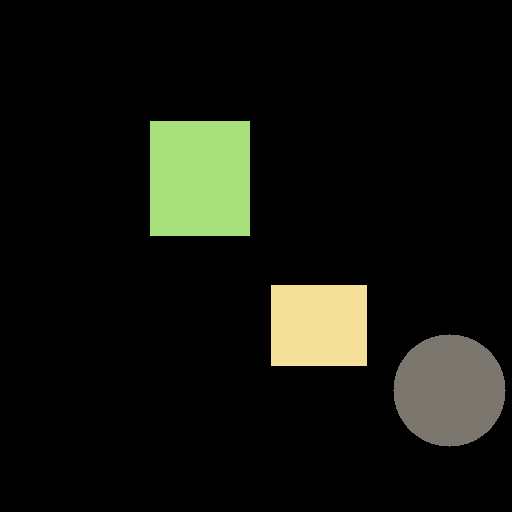circle: (393, 334, 505, 446)
rectangle: (150, 121, 249, 235), (271, 285, 366, 365)
